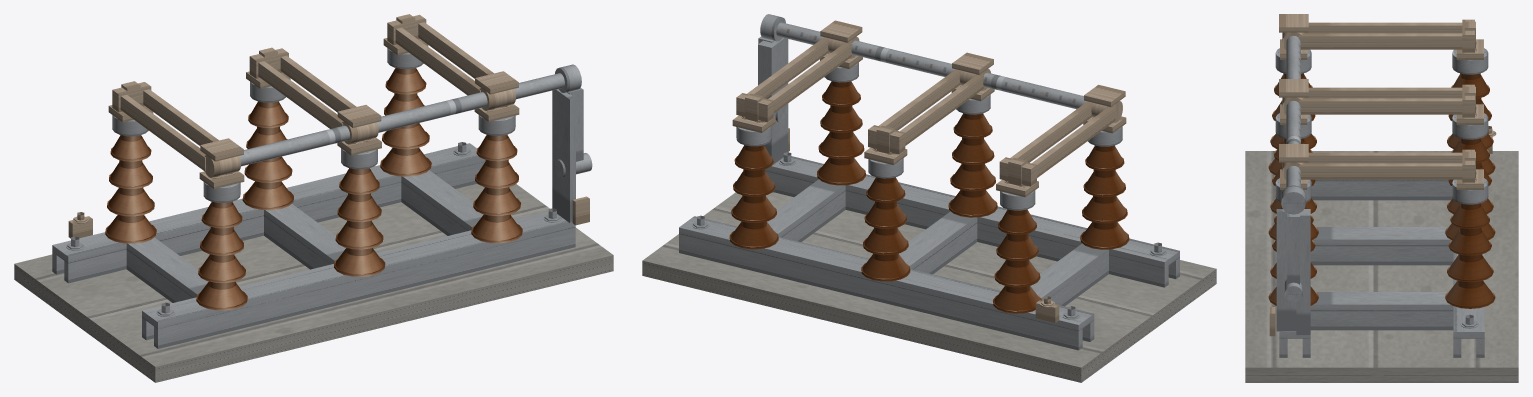
Rendered from mv_disconnector.obj.
The picture shows the model from 3 angles, left to right: view 1: azimuth 30°, elevation 25°; view 2: azimuth 150°, elevation 25°; view 3: azimuth 270°, elevation 25°; orthographic projection. The views are drawn at different scales.
Parts seen in each view (by area): view 1: frame, pad, rotate_blade, shaft, insulator_4, insulator_6, insulator_5, insulator_1, insulator_3, insulator_2, earth; view 2: frame, pad, rotate_blade, shaft, insulator_2, insulator_3, insulator_1, insulator_4, insulator_5, insulator_6, earth; view 3: pad, rotate_blade, frame, shaft, insulator_3, insulator_2, insulator_1, insulator_5, insulator_4, insulator_6.
Part boxes in pixels (box(x1,y1,x2,y2)): frame: box(52, 142, 575, 348); pad: box(14, 183, 613, 382); rotate_blade: box(112, 14, 592, 177); shaft: box(239, 64, 589, 225); insulator_4: box(196, 155, 247, 310); insulator_6: box(471, 88, 522, 243); insulator_5: box(334, 121, 385, 276); insulator_1: box(105, 81, 156, 243); insulator_3: box(380, 14, 431, 176); insulator_2: box(242, 47, 293, 210); earth: box(68, 212, 92, 238); frame: box(679, 152, 1179, 350); pad: box(642, 192, 1216, 382); rotate_blade: box(736, 20, 1125, 186); shaft: box(758, 14, 1086, 165); insulator_2: box(861, 125, 910, 281); insulator_3: box(729, 93, 778, 249); insulator_1: box(993, 158, 1041, 313); insulator_4: box(1080, 101, 1129, 249); insulator_5: box(948, 69, 997, 217); insulator_6: box(817, 36, 865, 185); earth: box(1035, 296, 1059, 322); pad: box(1245, 151, 1518, 382); rotate_blade: box(1279, 14, 1474, 302); frame: box(1279, 179, 1484, 357); shaft: box(1269, 35, 1310, 336); insulator_3: box(1445, 151, 1495, 308); insulator_2: box(1445, 86, 1495, 240); insulator_1: box(1447, 21, 1495, 174); insulator_5: box(1268, 97, 1318, 240); insulator_4: box(1268, 32, 1316, 174); insulator_6: box(1268, 162, 1318, 305).
Size of what is drawn, in the model's own units: 0.9 by 0.366 by 0.48.
